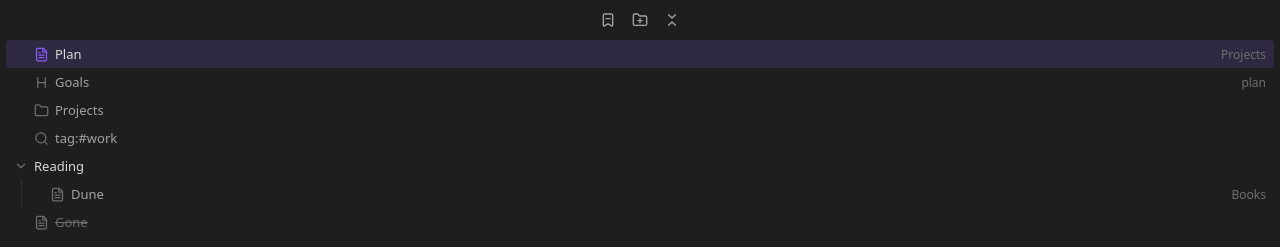
Test case: BookmarksPanel › collapses a group and remembers it on this device
Click the list item "Reading" at (49,166), box x1=14 y1=157 x2=84 y2=175
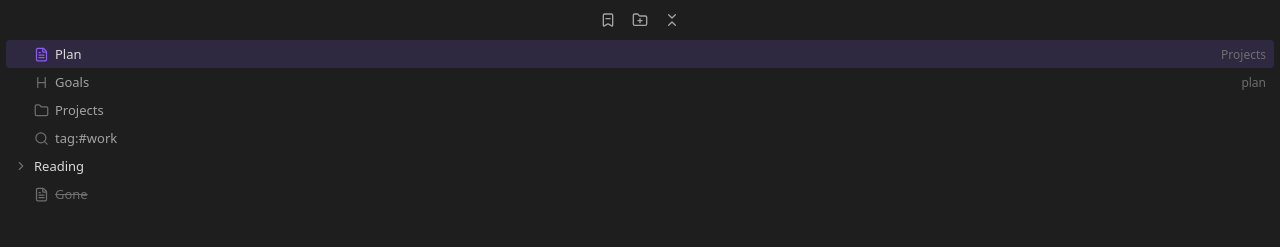
Result: the list item "Reading" is collapsed at x1=14 y1=157 x2=84 y2=175
